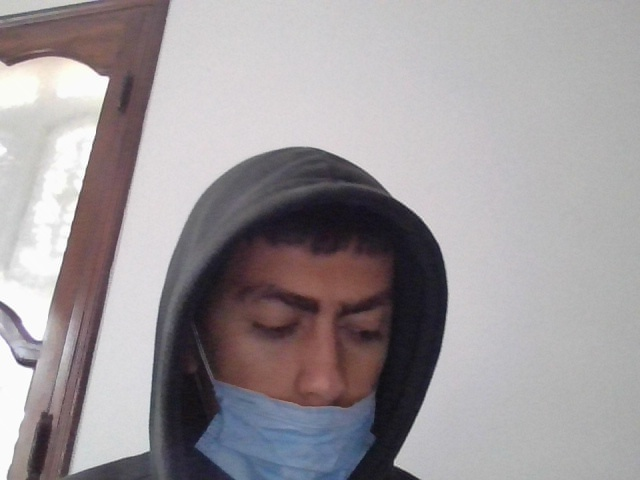mask_weared_incorrect: (188, 212, 397, 478)
